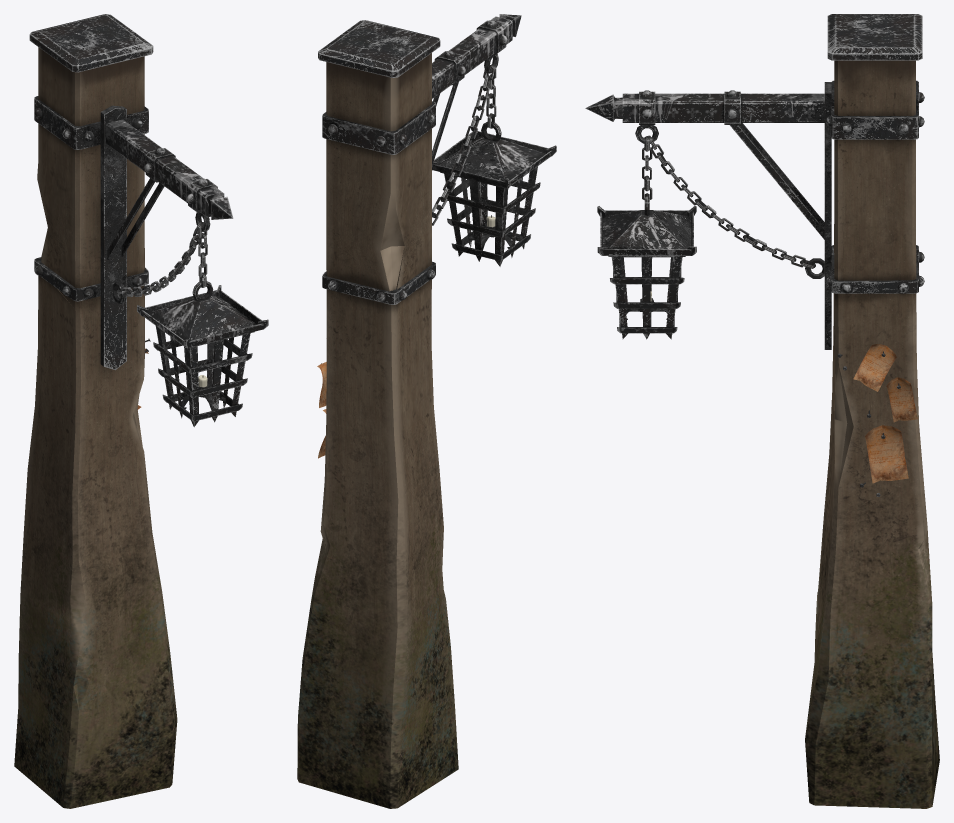
File: wooden_lamp_post_medieval_fantasy_lantern.glb
3 renders of one model, left to right at view 1: azimuth 30°, elevation 25°; view 2: azimuth 150°, elevation 25°; view 3: azimuth 270°, elevation 25°, orthographic. The views are drawn at different scales.
Parts seen in each view (by area): view 1: Wooden Post, Mounting metal, Lantern A, Post cap, Chains; view 2: Wooden Post, Lantern A, Mounting metal, Post cap, Chains; view 3: Wooden Post, Mounting metal, Lantern A, Post cap, Paper notes, Chains.
Part boxes in pixels (x1,y1,x2,y2): Wooden Post: (14,47,177,808); Mounting metal: (34,96,233,370); Lantern A: (137,281,268,427); Post cap: (29,14,153,72); Chains: (117,222,207,296); Wooden Post: (297,53,458,808); Lantern A: (432,121,556,266); Mounting metal: (322,14,521,304); Post cap: (318,20,440,77); Chains: (432,64,496,225); Wooden Post: (805,60,939,808); Mounting metal: (585,80,924,349); Lantern A: (597,193,696,339); Post cap: (827,14,922,60); Paper notes: (853,344,917,483); Chains: (642,135,815,268).
Size of the model in its own units: 0.5325 by 3.37 by 1.45.
9 materials, 7 textured.
